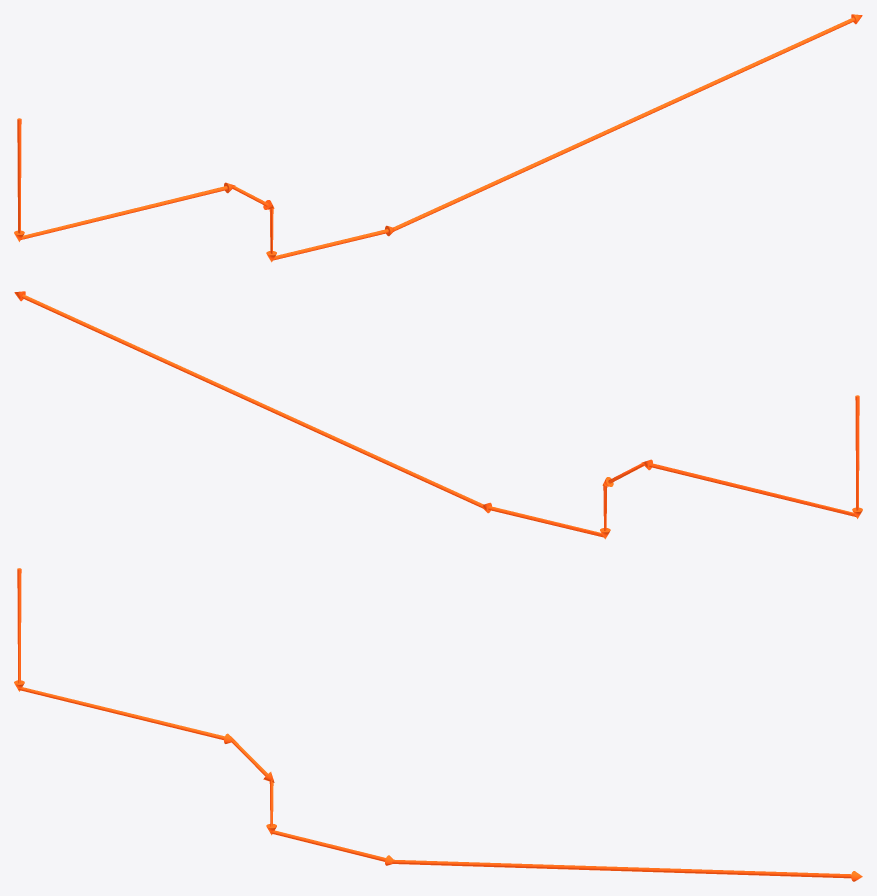
The model's file is m2p_primary_sizing_station_flow.glb.
The picture shows the model from 3 angles, top to bottom: view 1: azimuth 30°, elevation 25°; view 2: azimuth 150°, elevation 25°; view 3: azimuth 330°, elevation 25°; orthographic projection.
Parts seen in each view (by area): view 1: ore.001; view 2: ore.001; view 3: ore.001.
Boxes of the visible parts, bbox=[...] form: ore.001: bbox=[14, 14, 862, 262]; ore.001: bbox=[14, 291, 862, 539]; ore.001: bbox=[14, 568, 862, 881].
Bounding box in the file's own units: 55.83 × 12.99 × 0.624.
